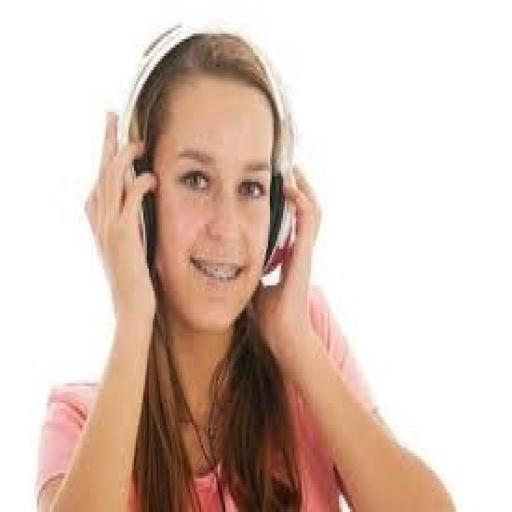listening_to_music: (32, 22, 458, 510)
